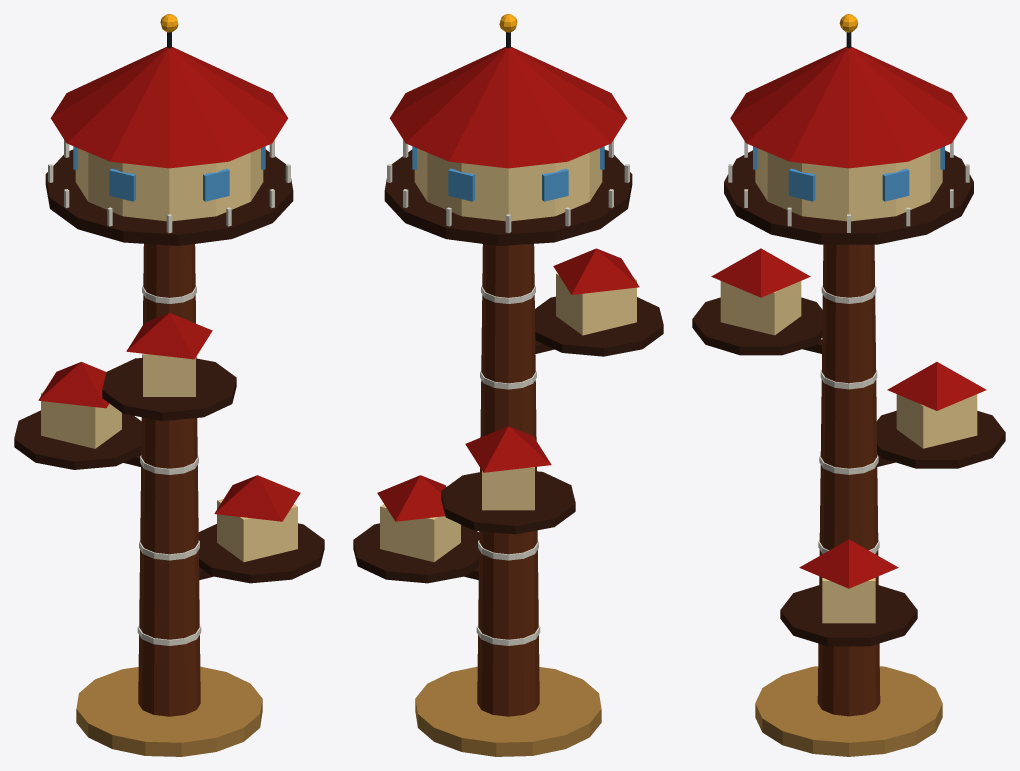
The model's file is SkyRoost.obj.
3 views of the same model, side by side, from view 1: azimuth 30°, elevation 25°; view 2: azimuth 150°, elevation 25°; view 3: azimuth 270°, elevation 25° (orthographic).
Visible parts, largest first — view 1: SkyRoost; view 2: SkyRoost; view 3: SkyRoost.
Part boxes in pixels (left/top/right/bottom): SkyRoost: left=14, top=14, right=324, bottom=756; SkyRoost: left=353, top=14, right=663, bottom=756; SkyRoost: left=692, top=14, right=1005, bottom=756.
Size of the model in its own units: 5.18 by 13.89 by 5.62.
